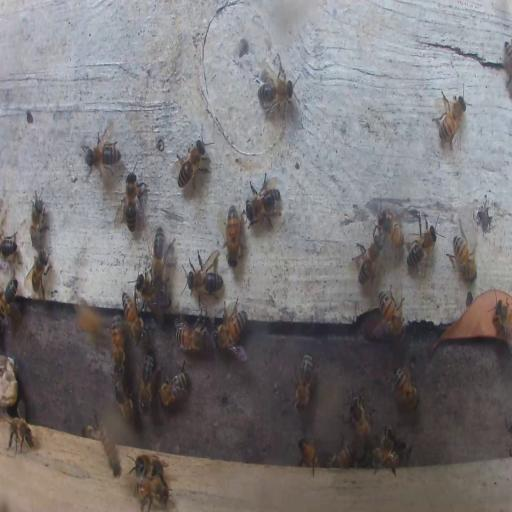nonpollenbee: (176, 128, 212, 192), (256, 63, 295, 122), (244, 173, 283, 230), (433, 90, 468, 151), (181, 250, 221, 303), (404, 215, 440, 273), (352, 234, 382, 288), (214, 305, 246, 353), (94, 418, 121, 474), (122, 172, 148, 230), (346, 392, 376, 442), (450, 227, 477, 281), (159, 364, 189, 408), (294, 352, 315, 410), (84, 138, 122, 170), (393, 363, 419, 409), (378, 290, 404, 336), (6, 414, 34, 456), (135, 476, 168, 511), (224, 203, 242, 265), (112, 374, 135, 422), (122, 293, 144, 343), (29, 248, 50, 297), (29, 192, 48, 246), (139, 355, 156, 413), (152, 228, 168, 286), (370, 436, 398, 468), (0, 279, 20, 322), (176, 323, 206, 351), (110, 314, 125, 369), (326, 441, 356, 466), (299, 438, 320, 472), (384, 217, 404, 252), (136, 274, 158, 304), (138, 452, 163, 474), (133, 458, 149, 490), (0, 235, 18, 260), (504, 39, 512, 92), (384, 433, 404, 454), (83, 418, 103, 438)
pollenbee: (76, 301, 108, 347)
